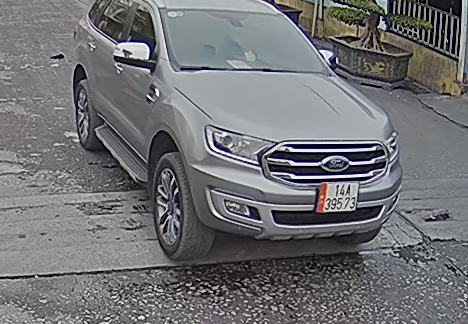vehicle plate: (314, 177, 360, 214)
